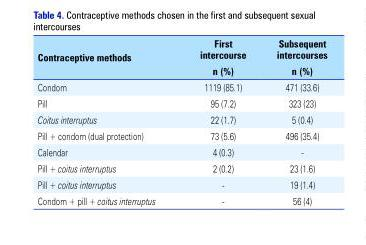table: (36, 36, 326, 206)
table column: (36, 36, 177, 206), (177, 36, 260, 206), (260, 36, 326, 206)
table column header: (36, 36, 326, 78)
table row: (36, 36, 326, 78), (36, 110, 326, 127), (36, 175, 326, 192), (36, 78, 326, 94), (36, 94, 326, 110), (36, 127, 326, 143), (36, 143, 326, 159), (36, 159, 326, 175), (36, 192, 326, 206)
